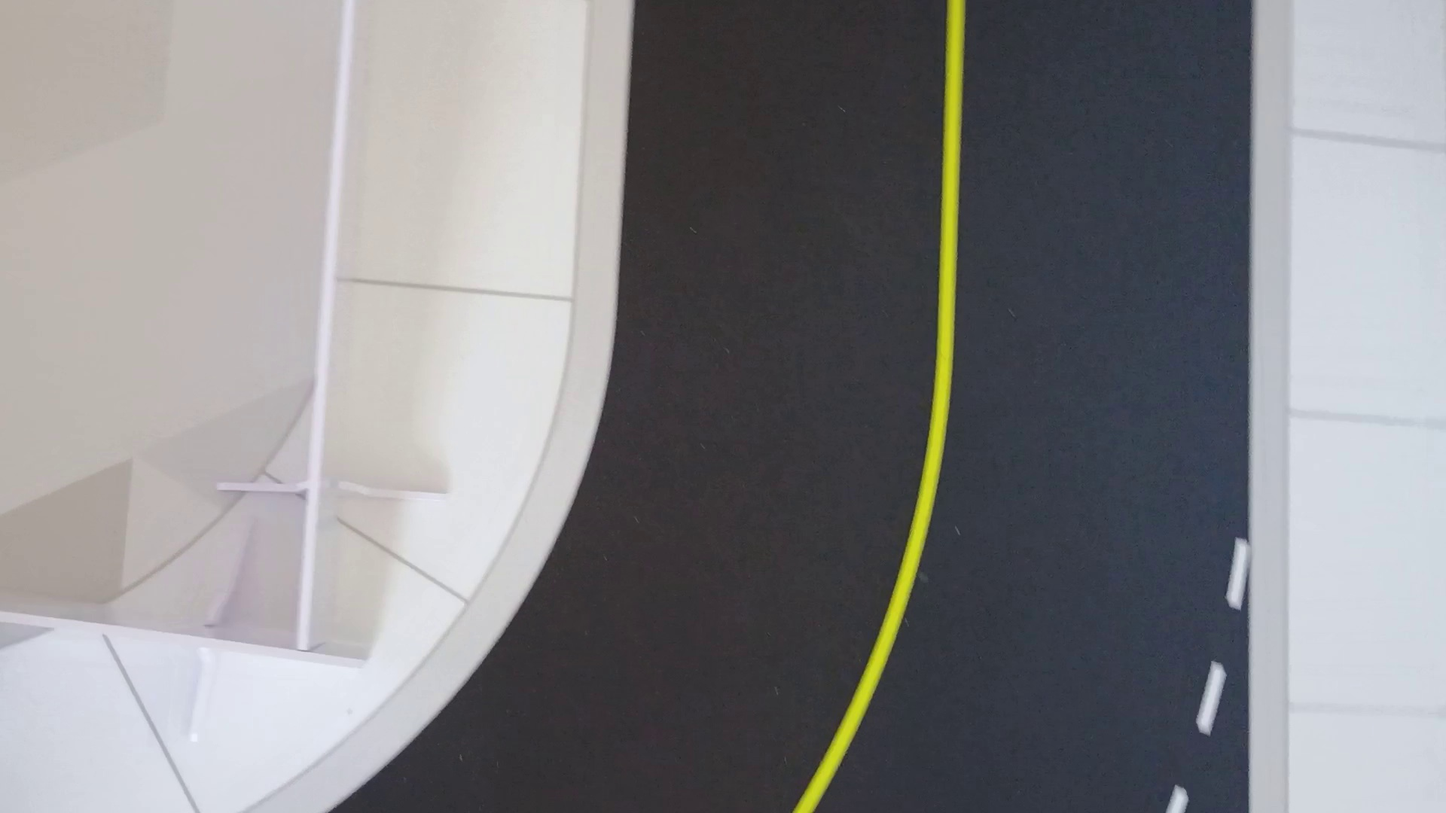Dashed: (1197, 662, 1225, 734), (1225, 537, 1249, 610), (1166, 785, 1188, 812)
Solid: (793, 0, 965, 812)
Street: (338, 0, 1250, 812)
